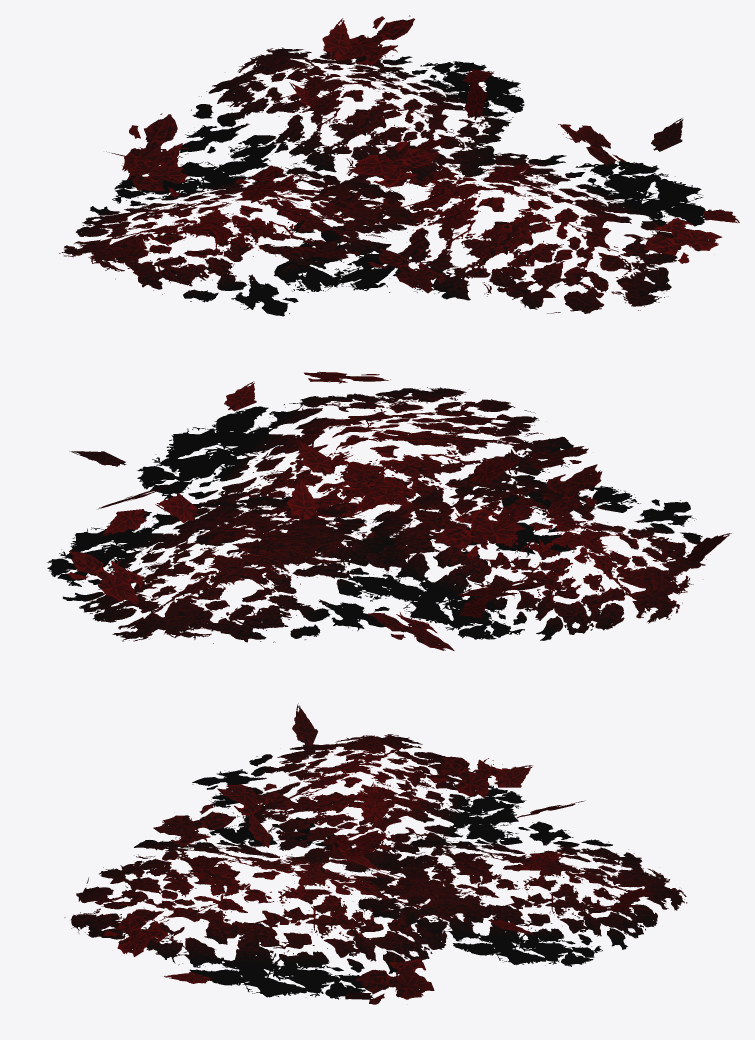
The model's file is Clover1.glb.
The picture shows the model from 3 angles, top to bottom: view 1: azimuth 30°, elevation 25°; view 2: azimuth 150°, elevation 25°; view 3: azimuth 270°, elevation 25°; orthographic projection. The views are drawn at different scales.
Visible parts, largest first — view 1: Clover1; view 2: Clover1; view 3: Clover1.
Boxes of the visible parts, x1,y1,x2,y2 form: Clover1: [59, 15, 739, 316]; Clover1: [47, 371, 731, 650]; Clover1: [64, 703, 687, 1004].
Bounding box in the file's own units: 4.63 × 0.4879 × 4.79.
Materials: 1 (1 with a texture image).
